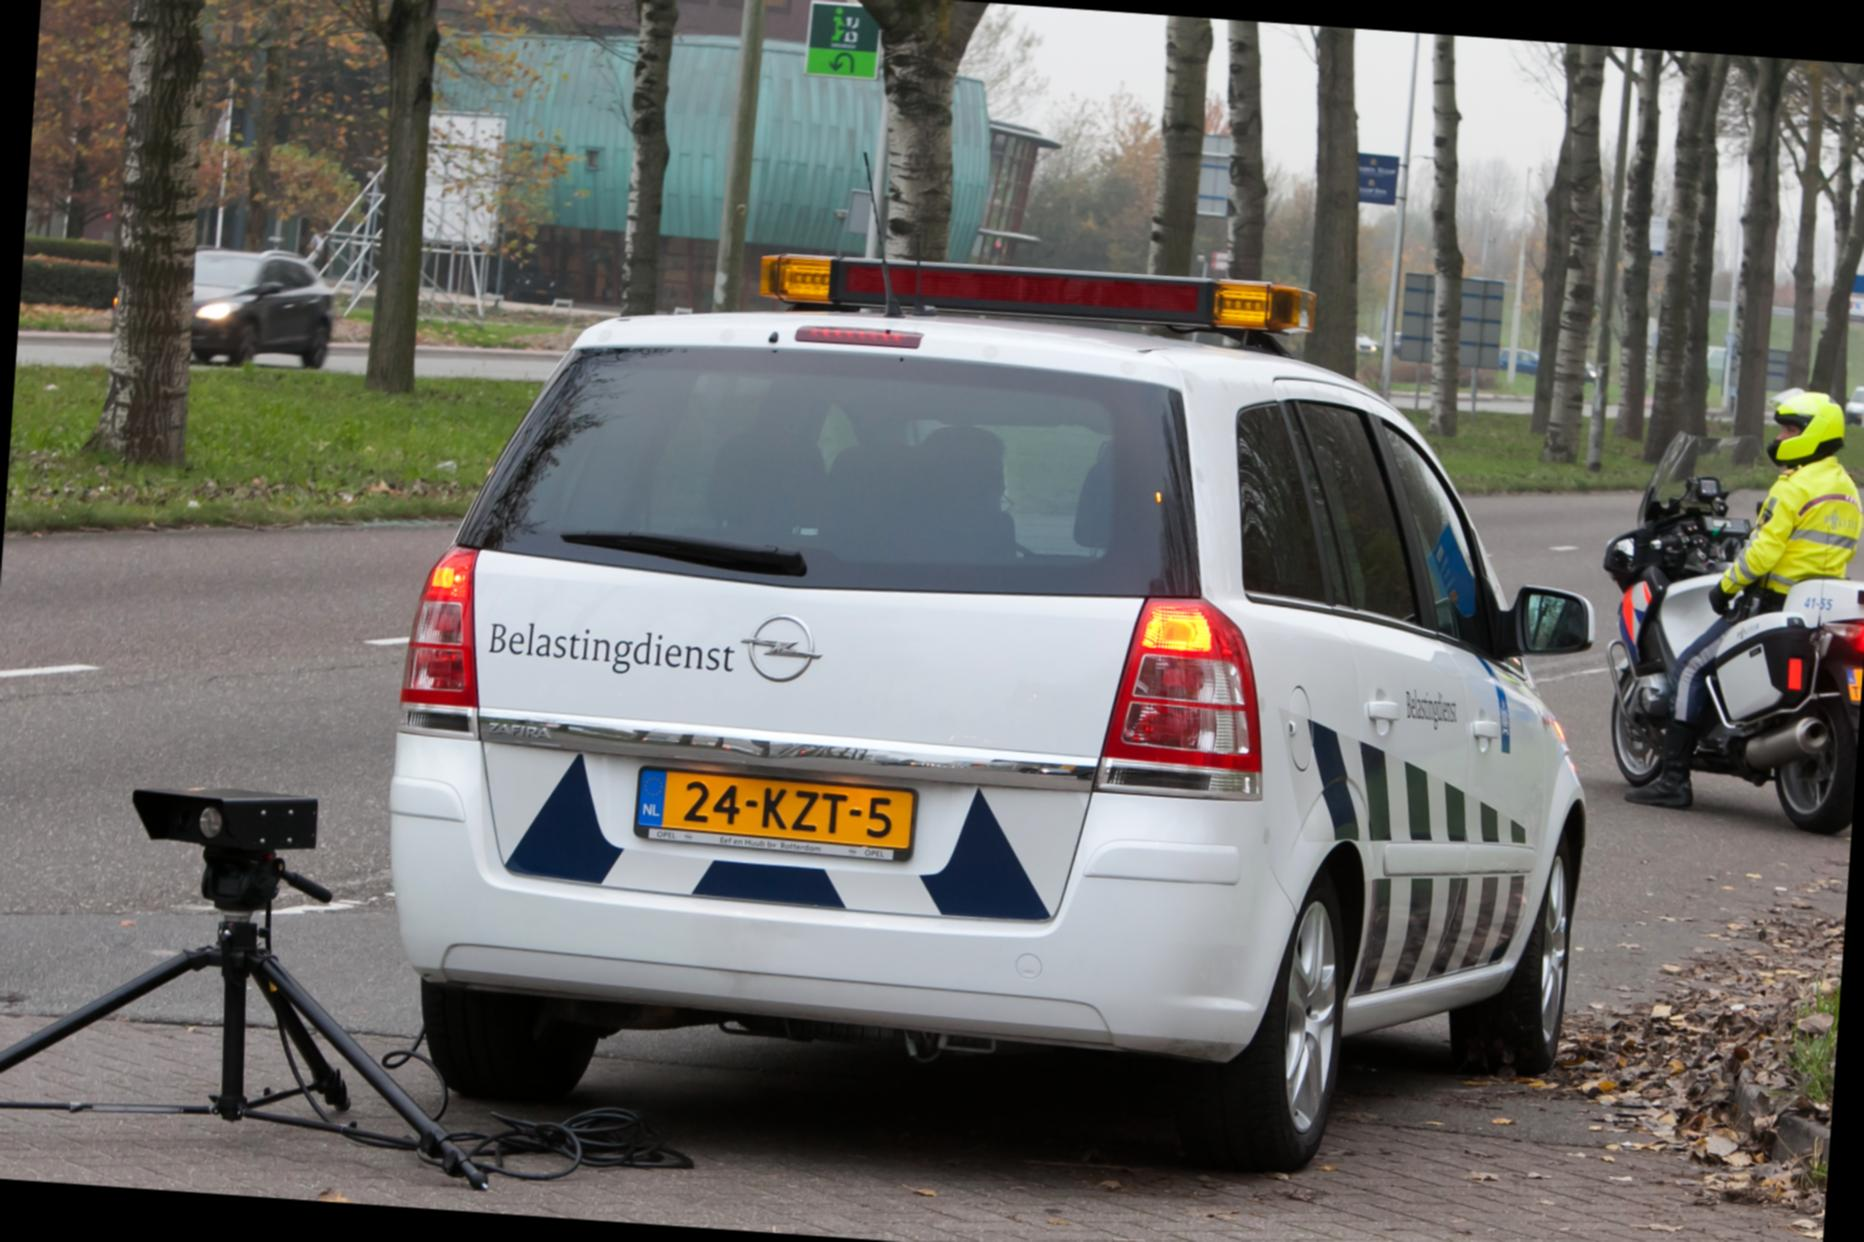license-plate: (633, 760, 916, 860)
